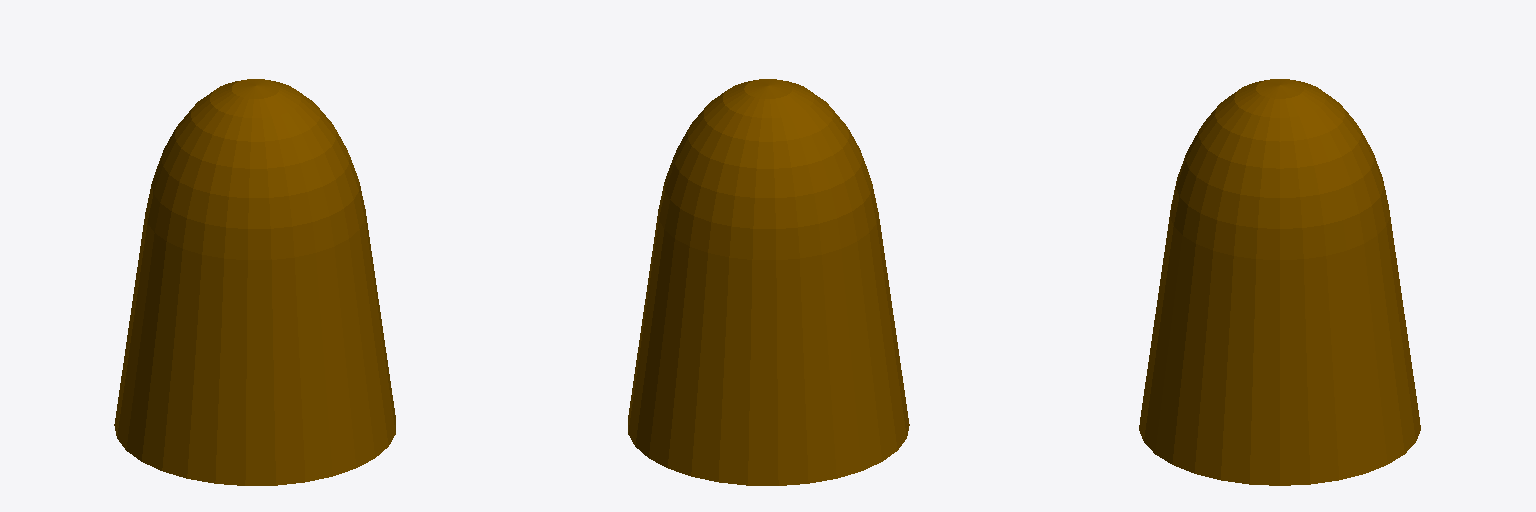
The model's file is Bullet.obj.
3 views of the same model, side by side, from view 1: azimuth 30°, elevation 25°; view 2: azimuth 150°, elevation 25°; view 3: azimuth 270°, elevation 25° (orthographic).
Visible parts, largest first — view 1: Arc001; view 2: Arc001; view 3: Arc001.
Boxes of the visible parts, x1=… form: Arc001: x1=114, y1=79, x2=395, y2=485; Arc001: x1=628, y1=79, x2=909, y2=485; Arc001: x1=1139, y1=79, x2=1420, y2=485.
Size of the model in its own units: 123 by 164 by 123.